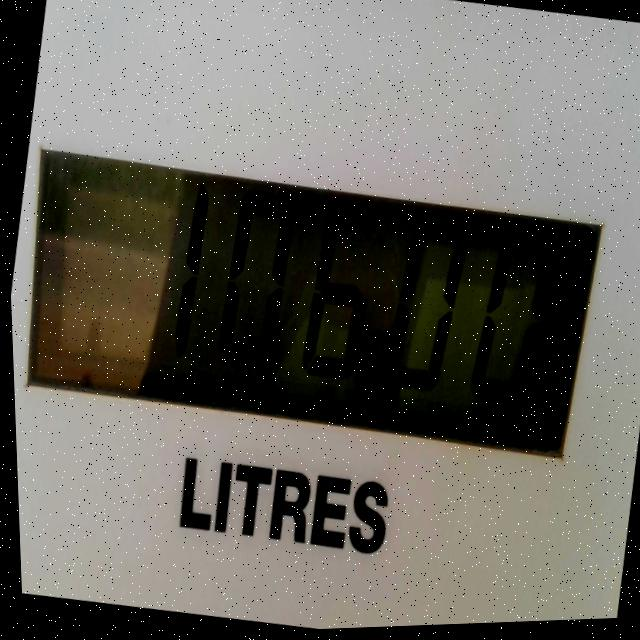.: (350, 341, 382, 410)
0: (454, 208, 571, 426), (372, 201, 482, 411), (206, 184, 302, 379)
1: (149, 177, 224, 371)
6: (280, 186, 388, 391)
